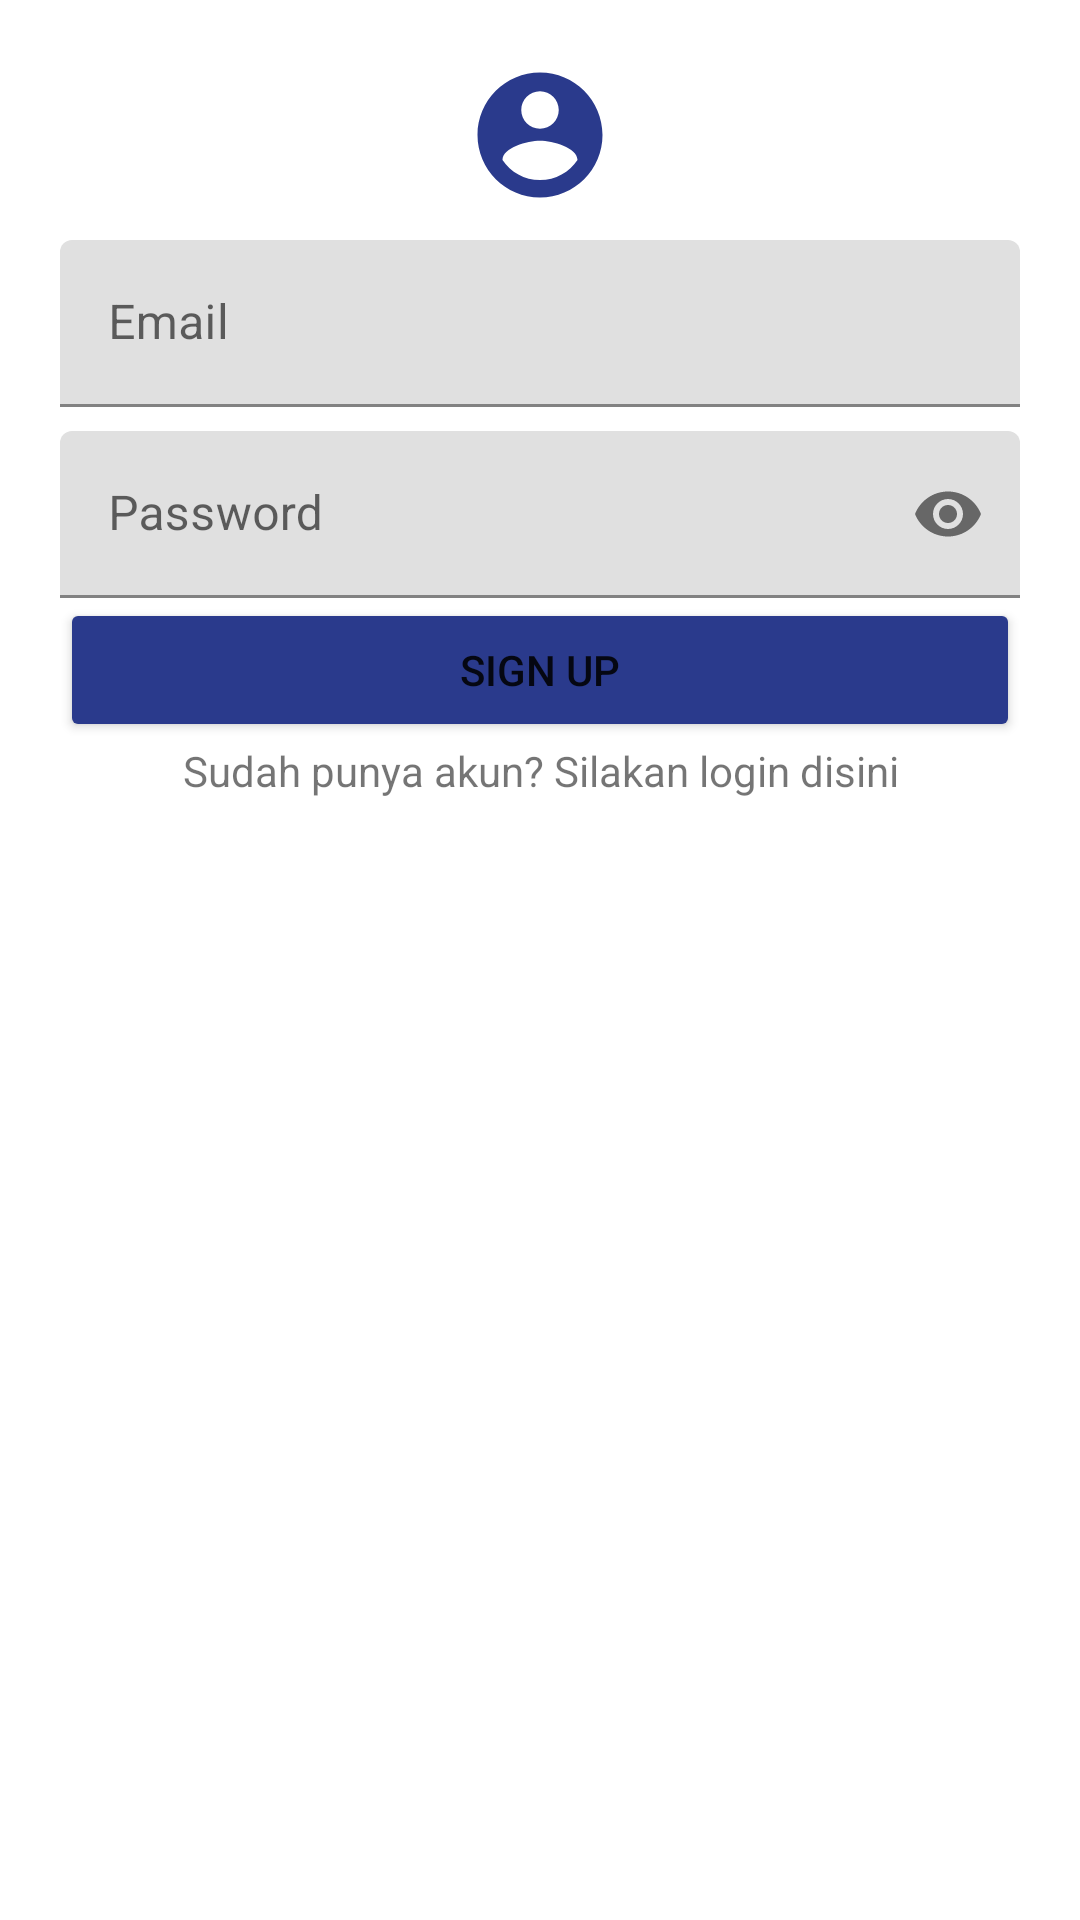

Where icons sit on this 1080px×1920px app screen, as box=[x1, y1, x2, y2]:
profile: box=[477, 72, 603, 198]
